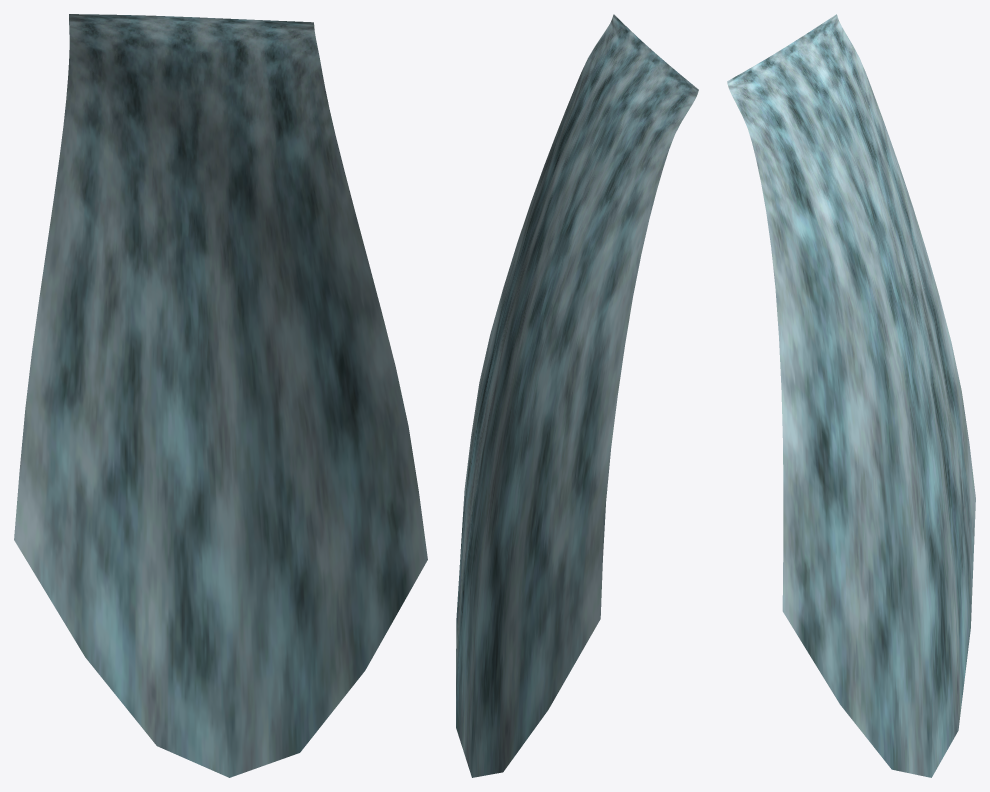
File: INST_MIRK_WATERFALL_WATERFALLOUTNEW01.fbx
3 renders of one model, left to right at view 1: azimuth 30°, elevation 25°; view 2: azimuth 150°, elevation 25°; view 3: azimuth 270°, elevation 25°, orthographic. The views are drawn at different scales.
Visible parts, largest first — view 1: INST_MIRK_WATERFALL_WATERFALLOUTNEW01; view 2: INST_MIRK_WATERFALL_WATERFALLOUTNEW01; view 3: INST_MIRK_WATERFALL_WATERFALLOUTNEW01.
Part boxes in pixels (x1,y1,x2,y2): INST_MIRK_WATERFALL_WATERFALLOUTNEW01: [14, 14, 427, 777]; INST_MIRK_WATERFALL_WATERFALLOUTNEW01: [456, 14, 698, 777]; INST_MIRK_WATERFALL_WATERFALLOUTNEW01: [727, 14, 975, 777].
Bounding box in the file's own units: 50630 × 128451 × 42672.
Materials: 1 (1 with a texture image).
